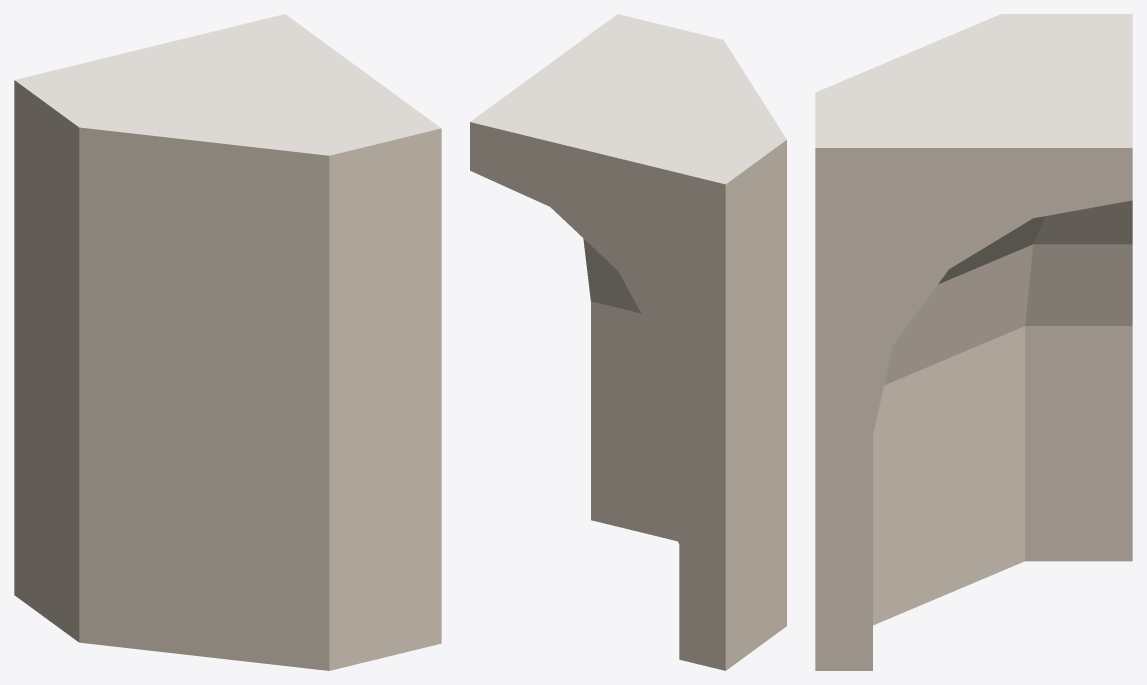
The model's file is Wall_Arch_Corner_Inner.glb.
The picture shows the model from 3 angles, left to right: view 1: azimuth 30°, elevation 25°; view 2: azimuth 150°, elevation 25°; view 3: azimuth 270°, elevation 25°; orthographic projection. The views are drawn at different scales.
Parts seen in each view (by area): view 1: Wall_Arch_Corner_Inner; view 2: Wall_Arch_Corner_Inner; view 3: Wall_Arch_Corner_Inner.
Boxes of the visible parts, <box> form: Wall_Arch_Corner_Inner: <box>14,14,441,670</box>; Wall_Arch_Corner_Inner: <box>470,14,786,670</box>; Wall_Arch_Corner_Inner: <box>815,14,1132,670</box>.
Bounding box in the file's own units: 1.1 × 2 × 1.1.
